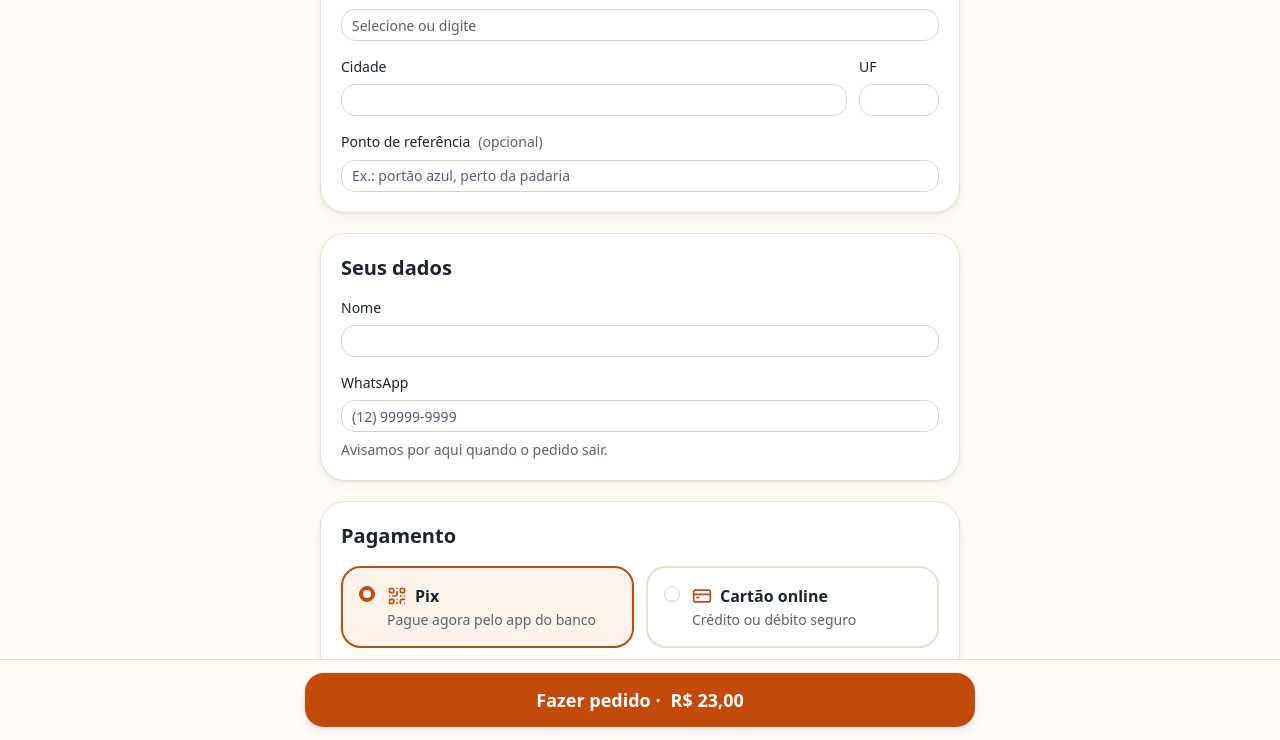
Test: PaginaCheckout › Pix pede CPF e mostra o erro de CPF inválido
The image size is (1280, 740).
(page scrolled)
Type "Maria da Silva" into the field labelled "Nome".
click(640, 341); type("Maria da Silva")  # box [341,325,939,357]
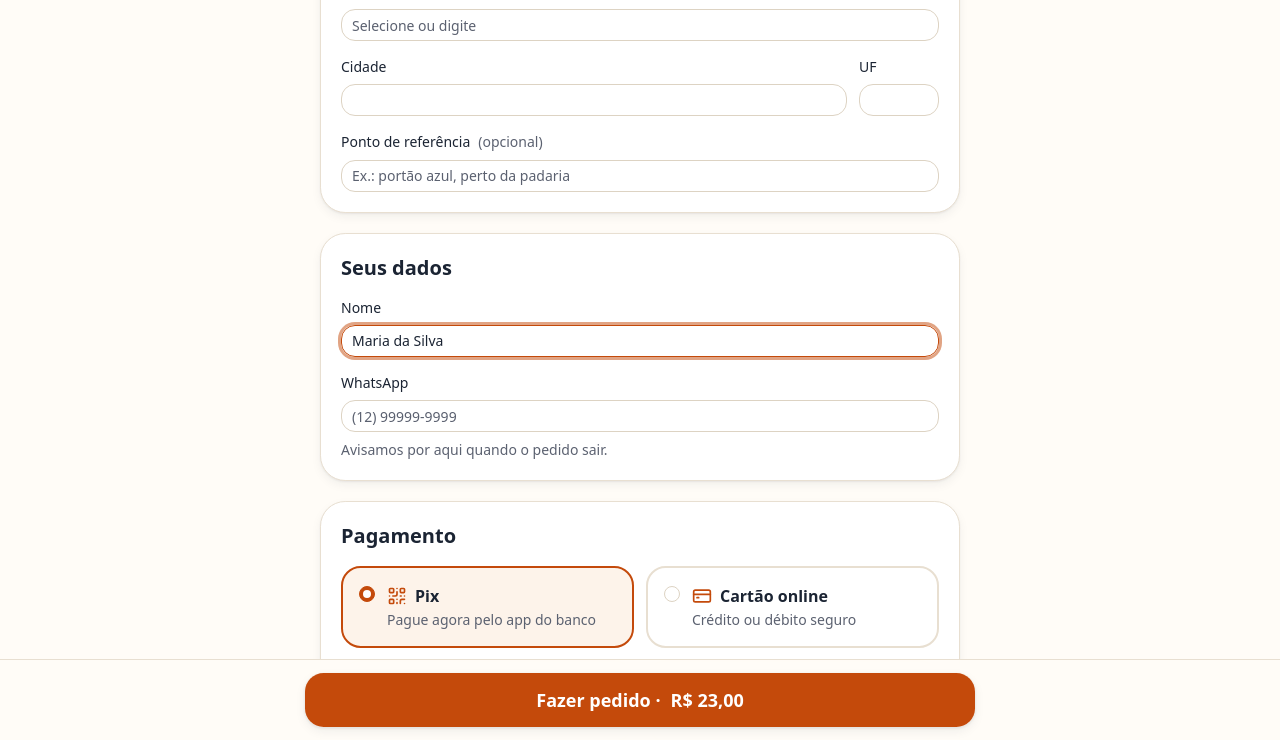
Type "12991234567" into the field labelled "WhatsApp".
click(640, 416); type("12991234567")  # box [341,400,939,432]
(page scrolled)
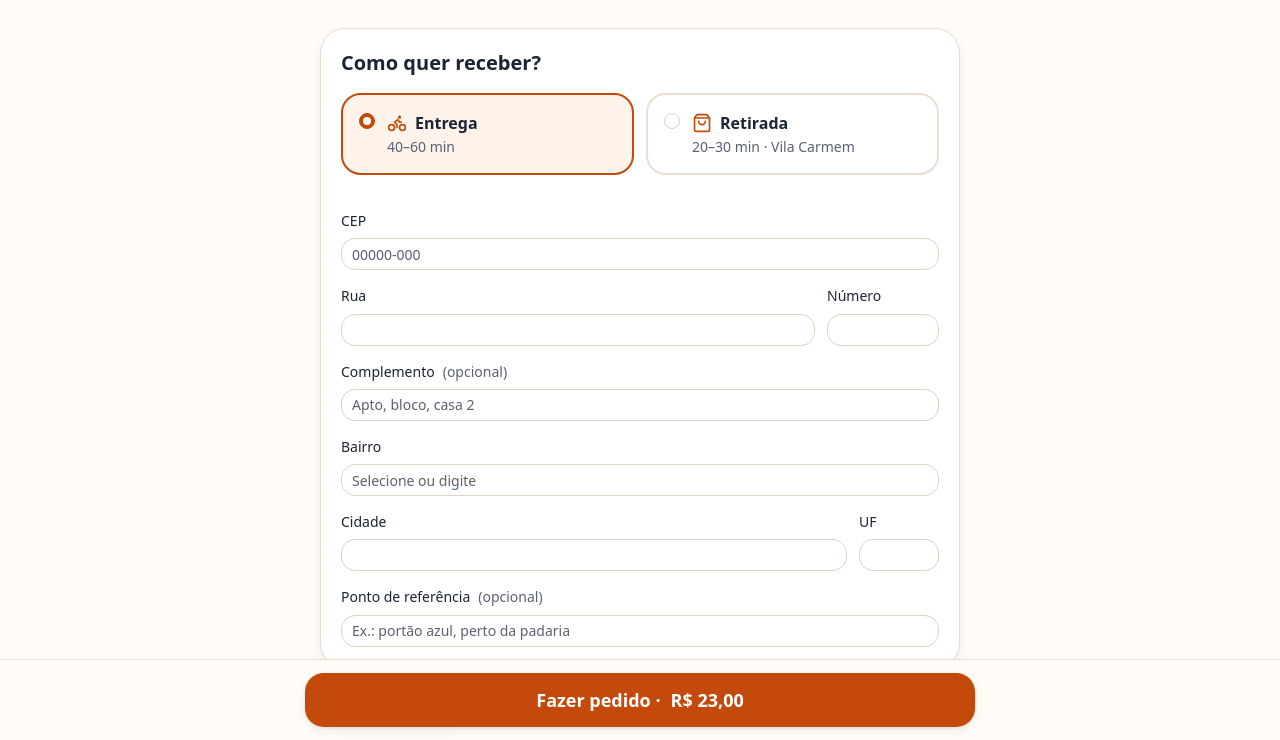
Click the radio button named "Retirada".
click(672, 121)  # box [664,113,680,129]
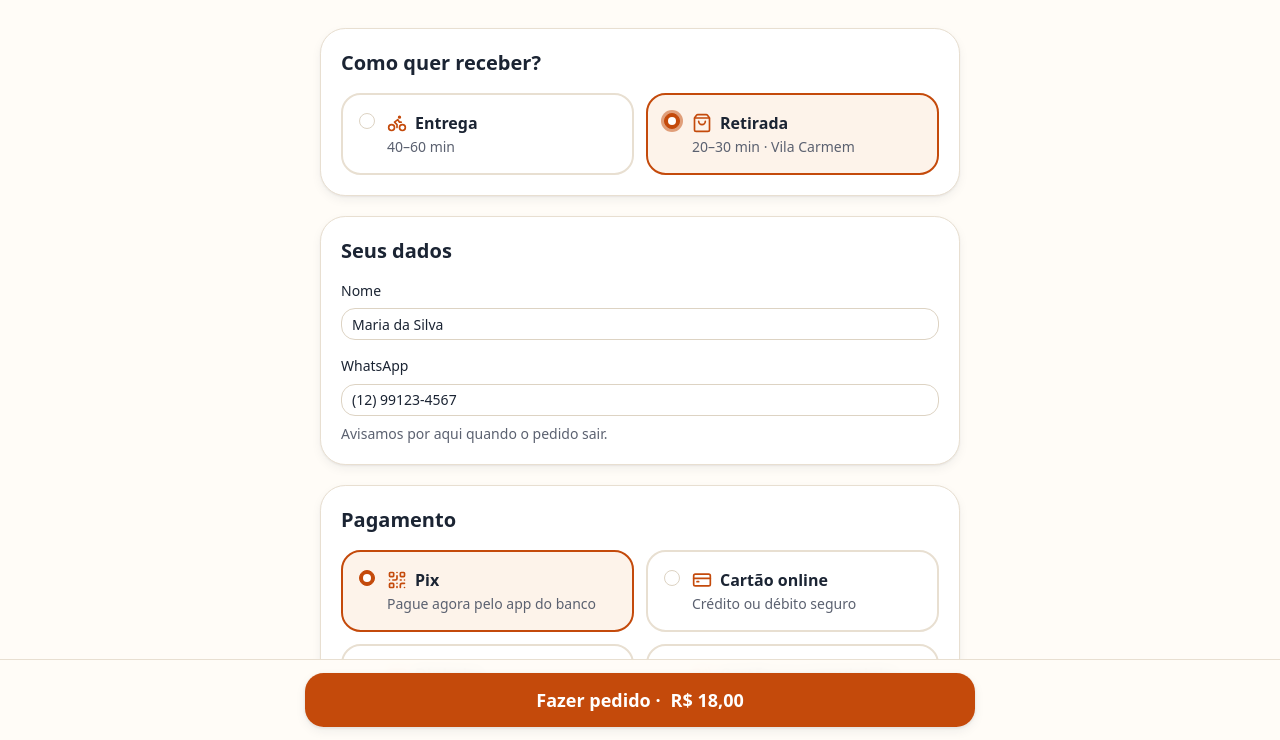
Click the radio button named "Pix".
click(367, 578)  # box [359,570,375,586]
(page scrolled)
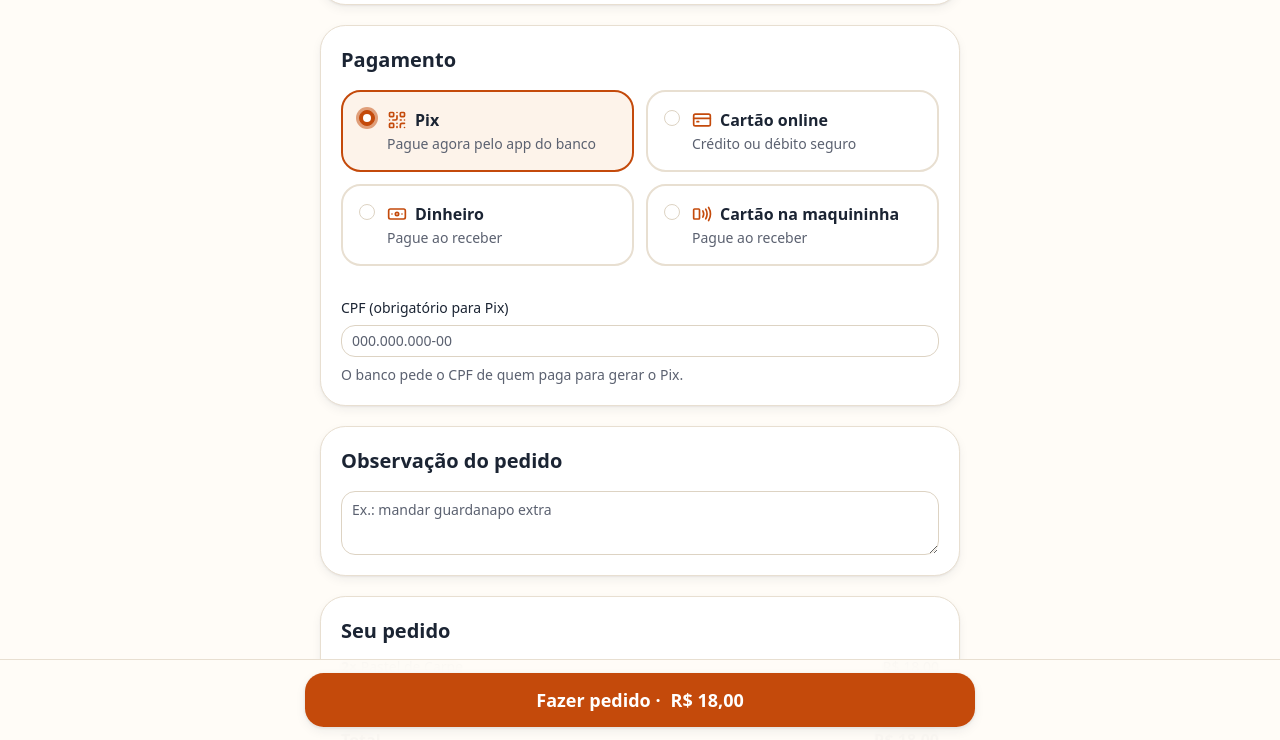
Type "11111111111" into the field labelled "CPF (obrigatório para Pix)".
click(640, 341); type("11111111111")  # box [341,325,939,357]
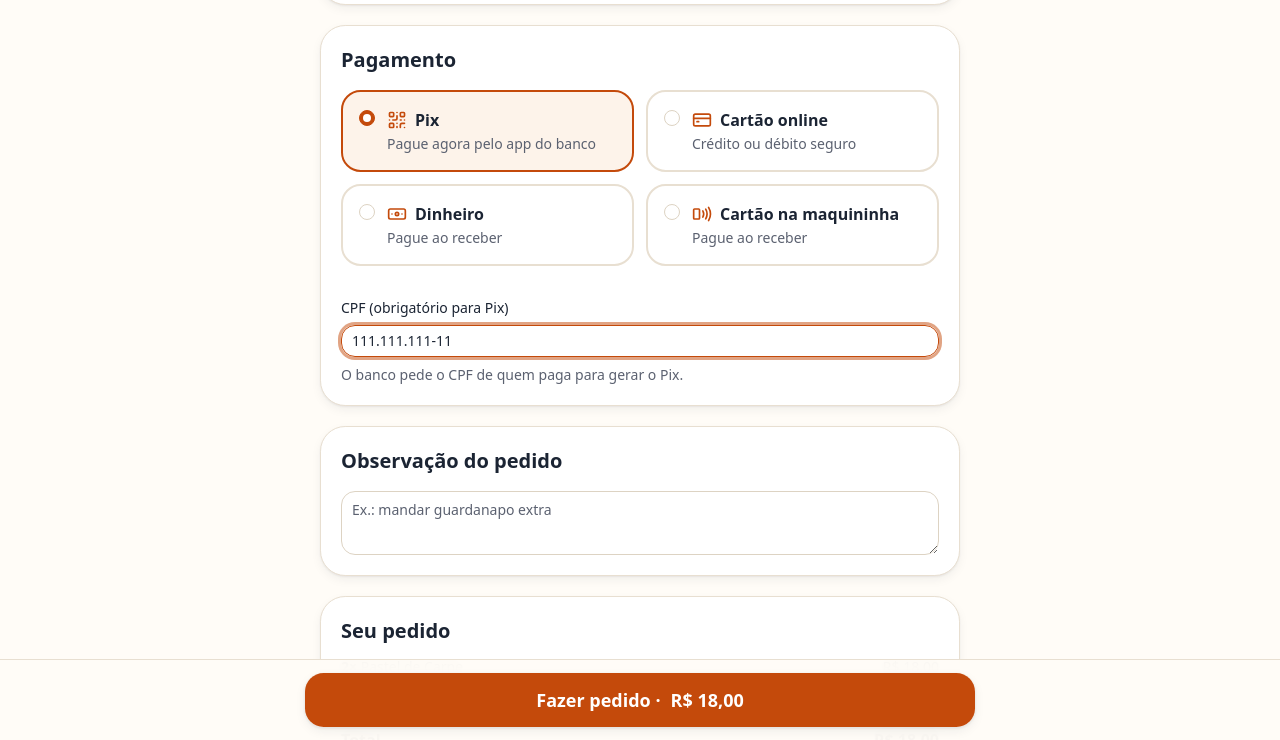
Click the button "Fazer pedido · R$ 18,00".
click(640, 700)  # box [304,672,976,728]
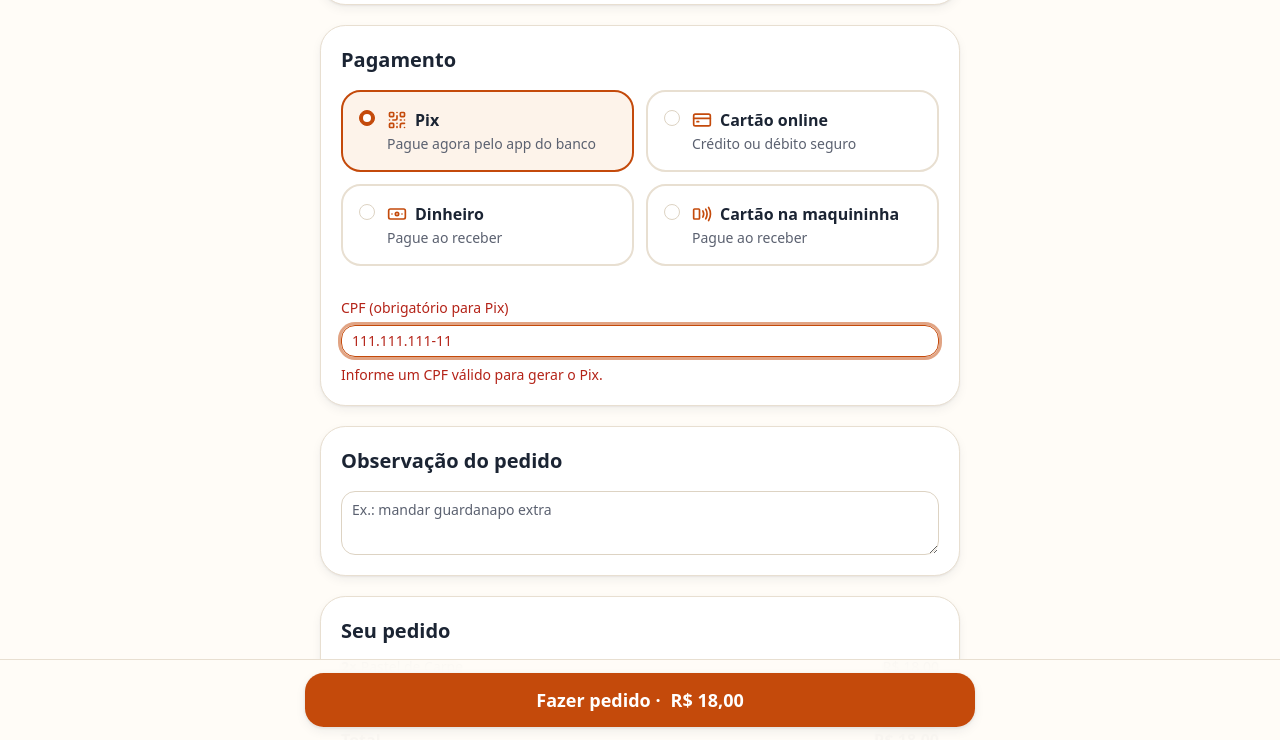
Check: the text "Informe um CPF válido para gerar o Pix." is shown, box [341,365,603,384]
